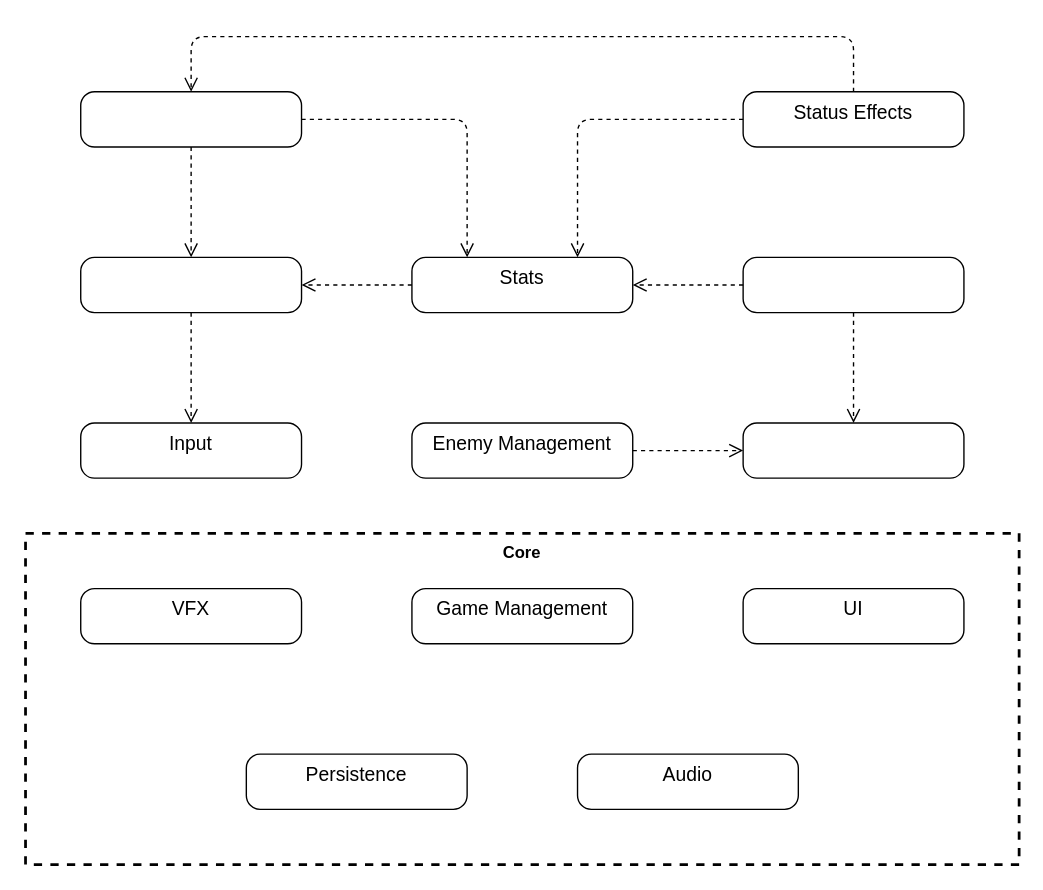
Some shapes in this 1043 by 890 pixel diagram are drawn without their labels. The centre of each missing label's shape, as x and y in pixels:
"Character Control" belongs at point (190, 284).
"Combat" belongs at point (190, 118).
"Items" belongs at point (853, 284).
"Progression" belongs at point (853, 450).
